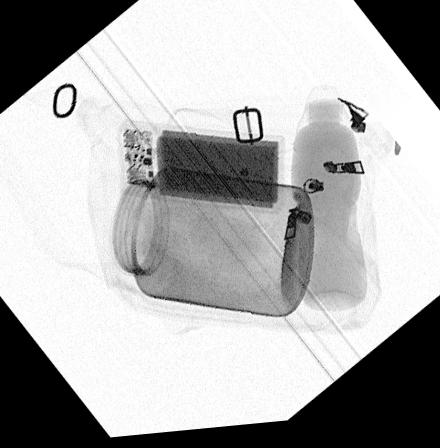Powerbank: (115, 123, 287, 217)
